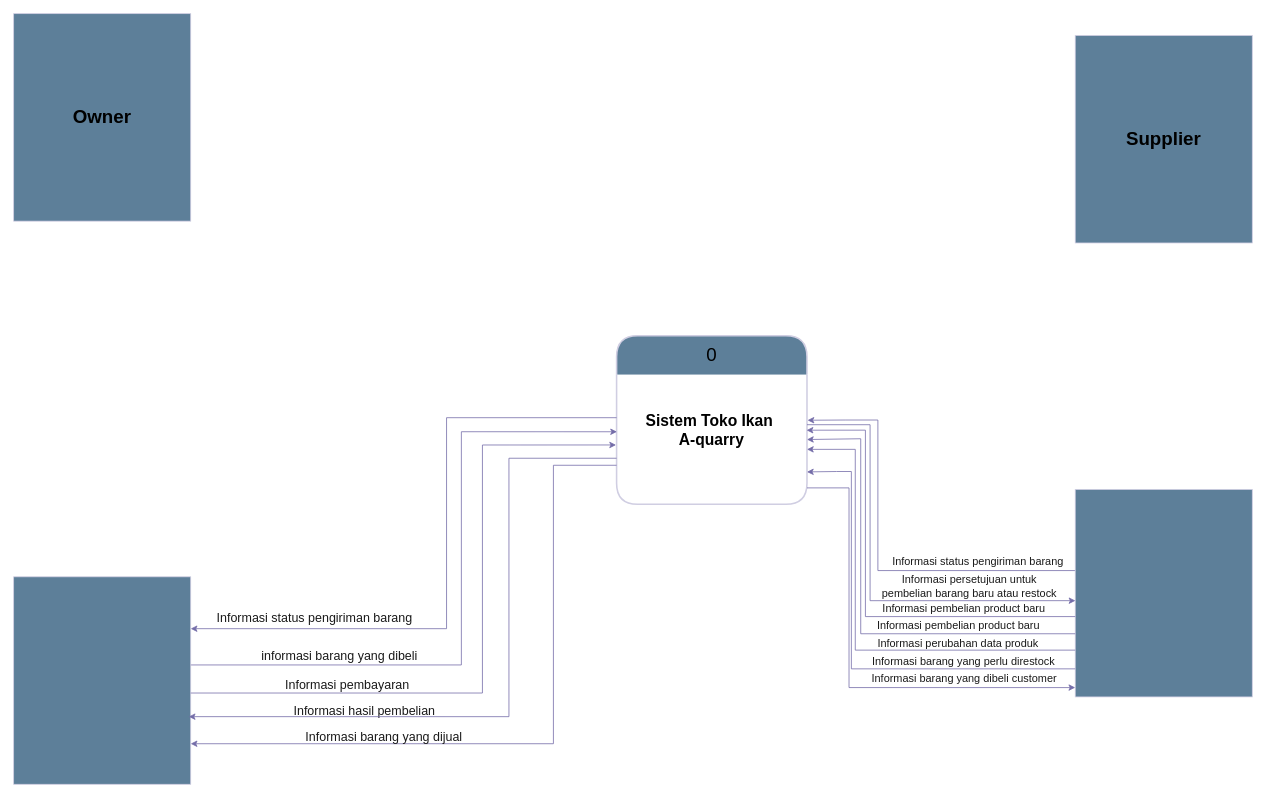
This 1266x798 diagram has some shape labels left out. The box of each missing label's shape, as (x1, y1, x2, y2) in pixels:
Kasir: (1074, 489, 1252, 697)
Pelanggan: (13, 576, 191, 784)
